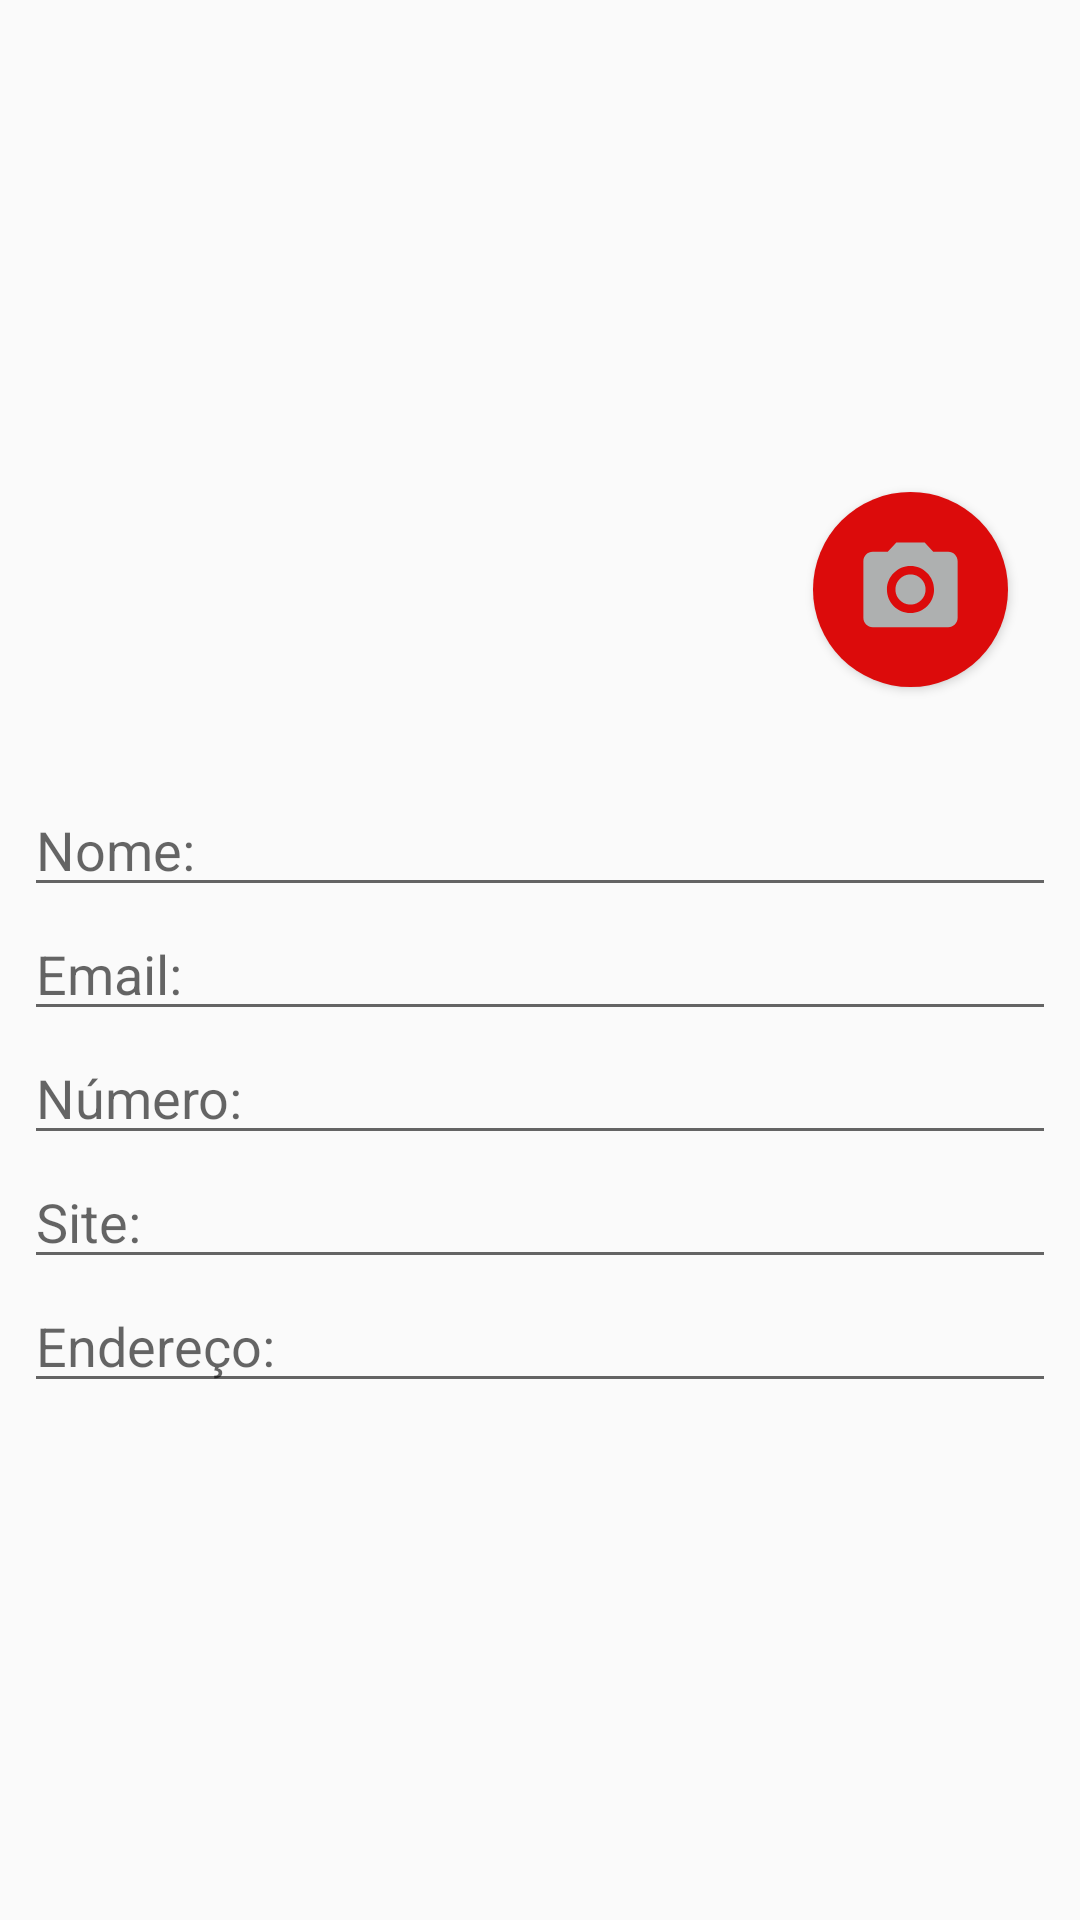

Screen size 1080px x 1920px. Icon name, then its center in pixels as [x,y]:
layout botao foto: [910,589]
